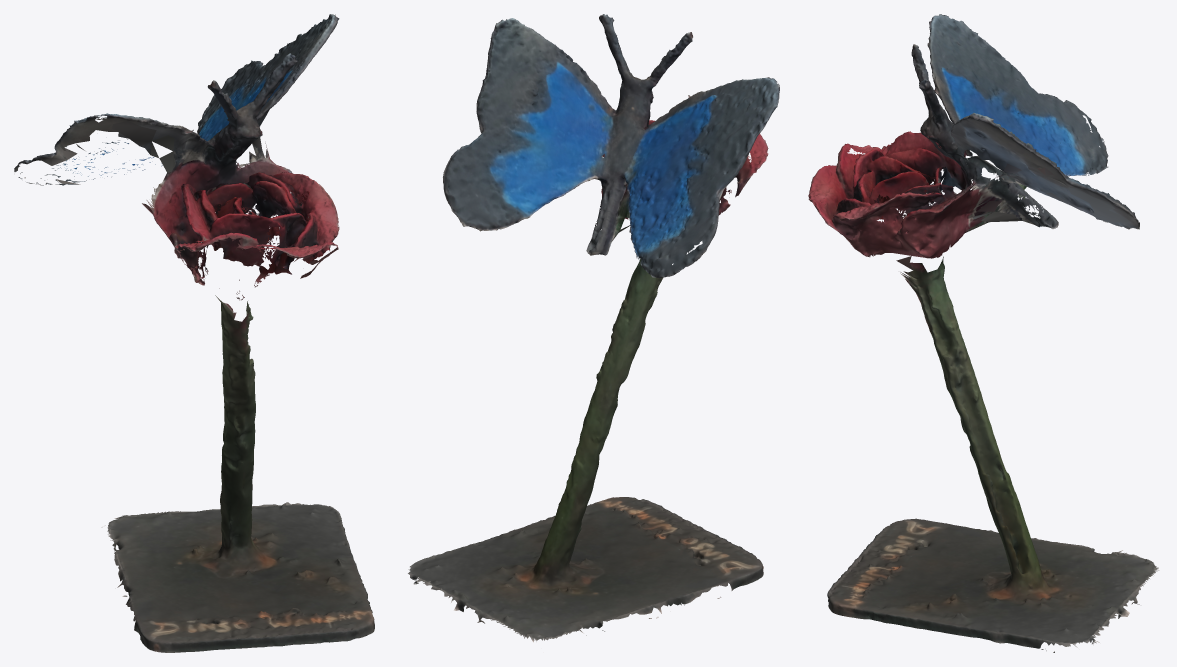
The model's file is piece-012.glb.
3 renders of one model, left to right at view 1: azimuth 30°, elevation 25°; view 2: azimuth 150°, elevation 25°; view 3: azimuth 270°, elevation 25°, orthographic. The views are drawn at different scales.
Parts seen in each view (by area): view 1: Mesh_0_Part_0; view 2: Mesh_0_Part_0; view 3: Mesh_0_Part_0.
Boxes of the visible parts, x1,y1,x2,y2 form: Mesh_0_Part_0: (14,14,374,652); Mesh_0_Part_0: (408,14,779,642); Mesh_0_Part_0: (808,14,1159,652).
Bounding box in the file's own units: 0.2351 × 0.3832 × 0.2378.
1 material, 1 textured.
